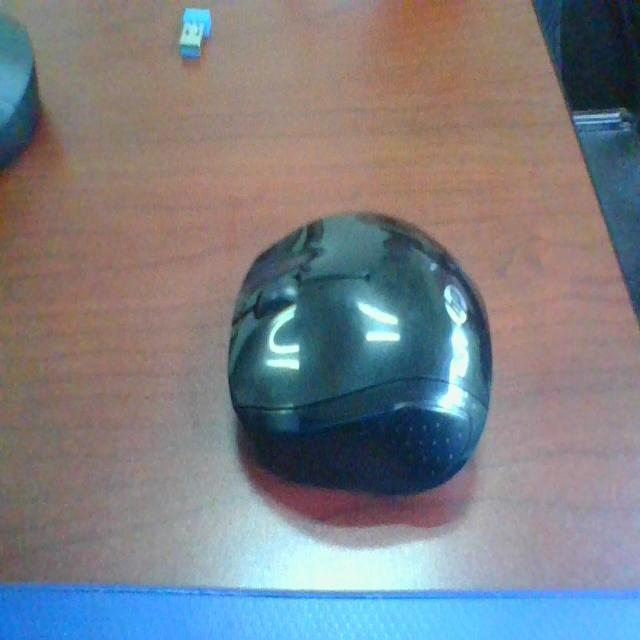Mouse: (231, 207, 504, 514)
